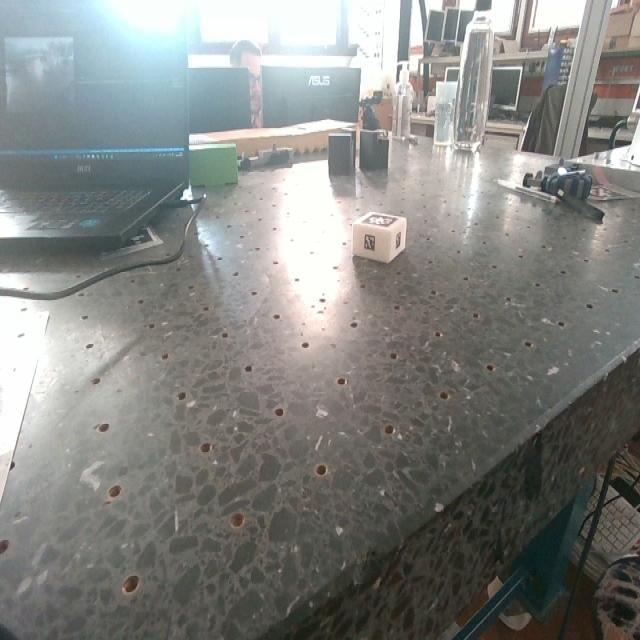Cube: (351, 206, 407, 262)
